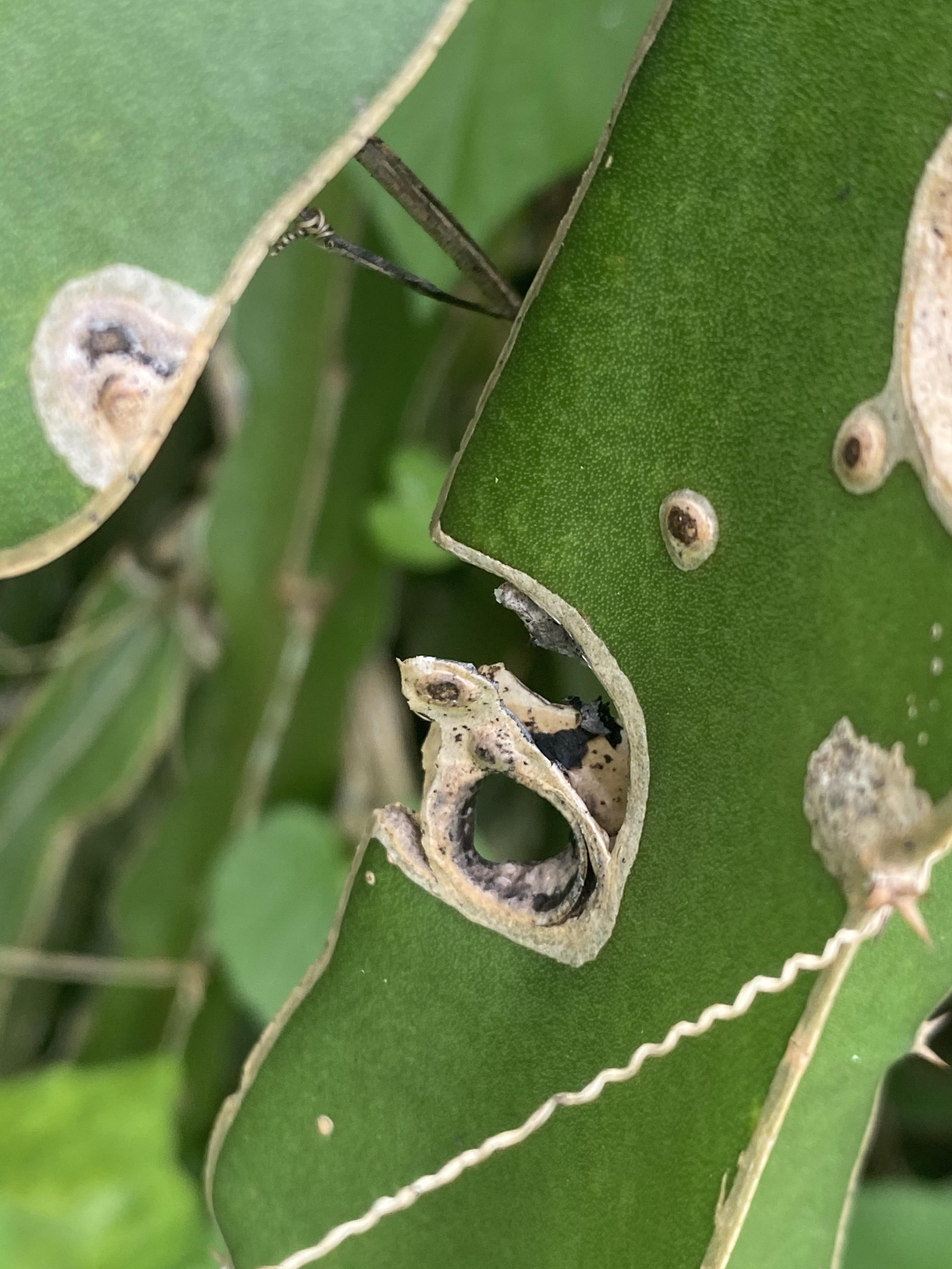stemcanker: (371, 643, 653, 965), (20, 259, 218, 508), (797, 711, 952, 915), (894, 113, 952, 535), (829, 393, 895, 496), (656, 485, 720, 573)
